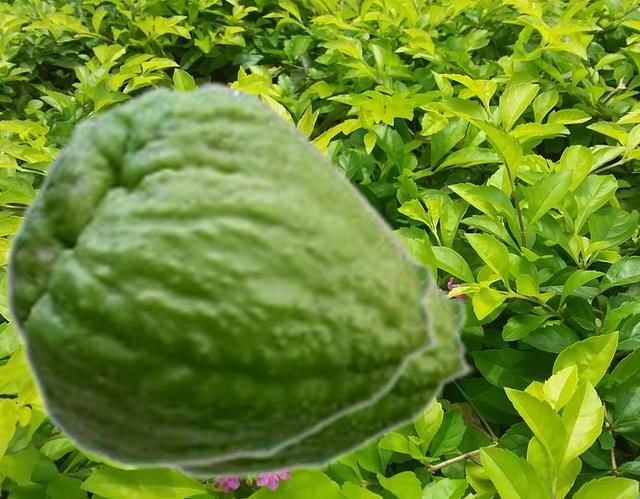sayote: (3, 79, 444, 471), (158, 171, 475, 481)
